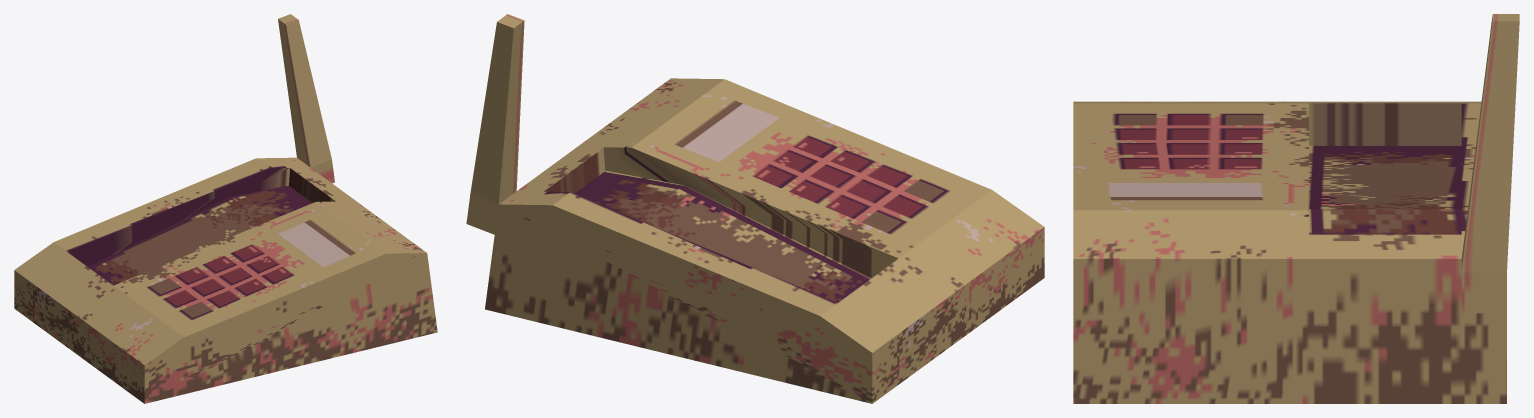
The model's file is telephone_socle.fbx.
3 views of the same model, side by side, from view 1: azimuth 30°, elevation 25°; view 2: azimuth 150°, elevation 25°; view 3: azimuth 270°, elevation 25° (orthographic). The views are drawn at different scales.
Visible parts, largest first — view 1: phonestand; view 2: phonestand; view 3: phonestand.
Part boxes in pixels (x1,y1,x2,y2): phonestand: [14, 14, 437, 403]; phonestand: [466, 14, 1044, 403]; phonestand: [1073, 14, 1519, 403].
Size of the model in its own units: 113 by 78.92 by 85.81.
